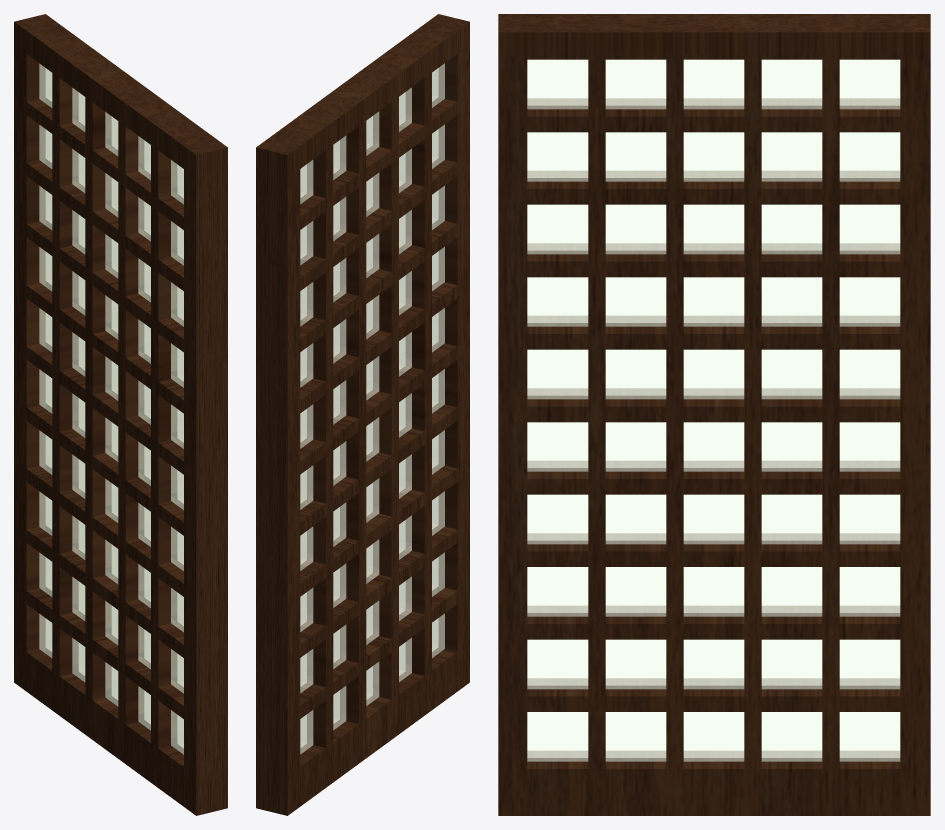
Rendered from MSH_A_Door_B_Left.glb.
3 views of the same model, side by side, from view 1: azimuth 30°, elevation 25°; view 2: azimuth 150°, elevation 25°; view 3: azimuth 270°, elevation 25° (orthographic). The views are drawn at different scales.
Visible parts, largest first — view 1: Room A - Door_Left_B; view 2: Room A - Door_Left_B; view 3: Room A - Door_Left_B.
Part boxes in pixels (x1,y1,x2,y2): Room A - Door_Left_B: (14, 14, 227, 815); Room A - Door_Left_B: (256, 14, 469, 815); Room A - Door_Left_B: (498, 14, 930, 815).
Size of the model in its own units: 0.1 by 2 by 1.
2 materials, 1 textured.
